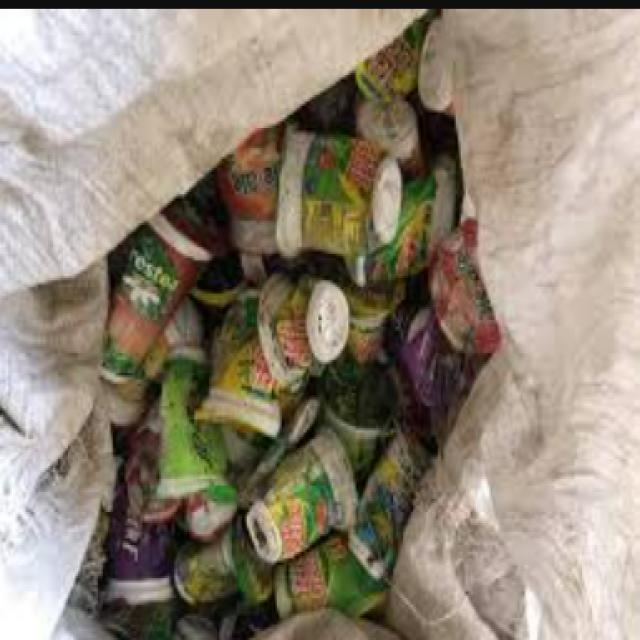GelasPlastik: (90, 13, 498, 638)
